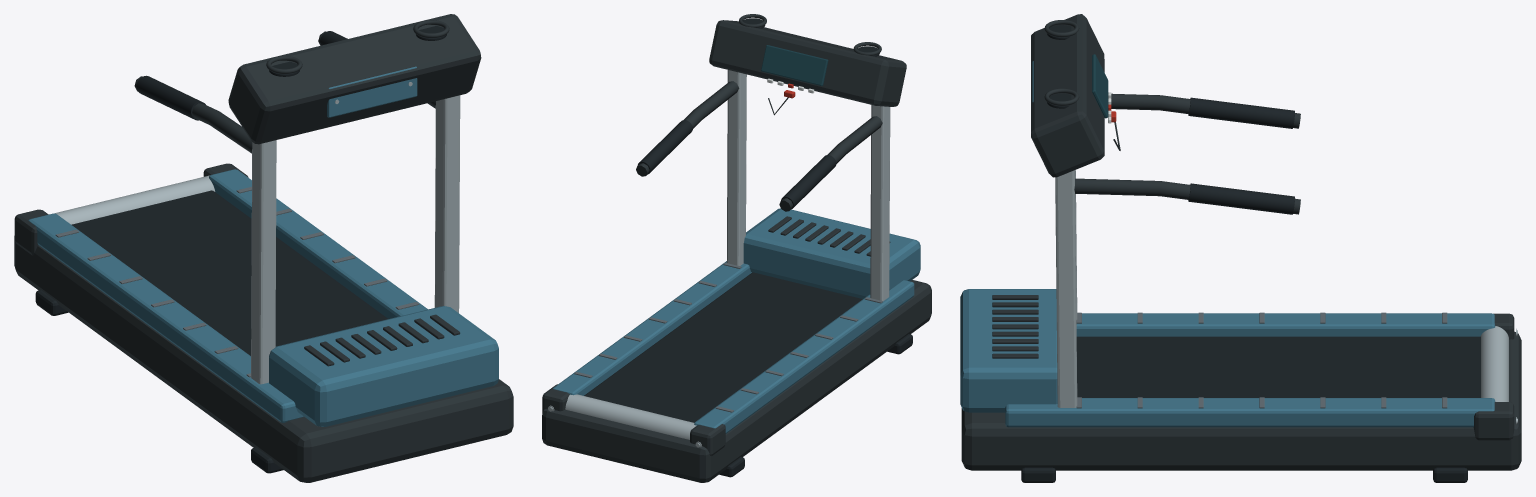
Rendered from city-fitness-treadmill.glb.
3 views of the same model, side by side, from view 1: azimuth 30°, elevation 25°; view 2: azimuth 150°, elevation 25°; view 3: azimuth 270°, elevation 25° (orthographic). The views are drawn at different scales.
Visible parts, largest first — view 1: Assembly | Dark molded body, Assembly | Muted blue enamel, Assembly | Matte rubber and pads, Assembly | Satin tubular steel, Assembly | Grey belt and textured-look pad; view 2: Assembly | Dark molded body, Assembly | Matte rubber and pads, Assembly | Muted blue enamel, Assembly | Satin tubular steel, Assembly | Opaque inactive display, Assembly | Grey belt and textured-look pad; view 3: Assembly | Dark molded body, Assembly | Muted blue enamel, Assembly | Matte rubber and pads, Assembly | Satin tubular steel, Assembly | Grey belt and textured-look pad, Assembly | Opaque inactive display.
Boxes of the visible parts, x1,y1,x2,y2 form: Assembly | Dark molded body: [14, 14, 513, 482]; Assembly | Muted blue enamel: [28, 66, 498, 426]; Assembly | Matte rubber and pads: [35, 26, 446, 473]; Assembly | Satin tubular steel: [54, 82, 460, 384]; Assembly | Grey belt and textured-look pad: [55, 186, 419, 377]; Assembly | Dark molded body: [542, 14, 931, 482]; Assembly | Matte rubber and pads: [584, 18, 912, 477]; Assembly | Muted blue enamel: [553, 208, 920, 433]; Assembly | Satin tubular steel: [548, 70, 890, 447]; Assembly | Opaque inactive display: [761, 45, 828, 85]; Assembly | Grey belt and textured-look pad: [574, 262, 882, 412]; Assembly | Dark molded body: [961, 14, 1521, 470]; Assembly | Muted blue enamel: [960, 61, 1495, 427]; Assembly | Matte rubber and pads: [1021, 25, 1480, 482]; Assembly | Satin tubular steel: [1055, 170, 1517, 424]; Assembly | Grey belt and textured-look pad: [1076, 312, 1447, 408]; Assembly | Opaque inactive display: [1092, 54, 1108, 118].
Bounding box in the file's own units: 0.85 × 1.41 × 1.93.
